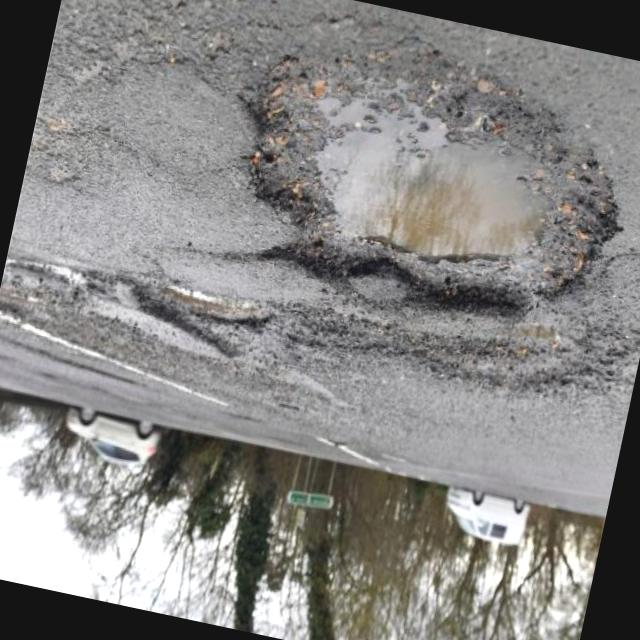pothole: (199, 8, 640, 358), (111, 266, 278, 379)
